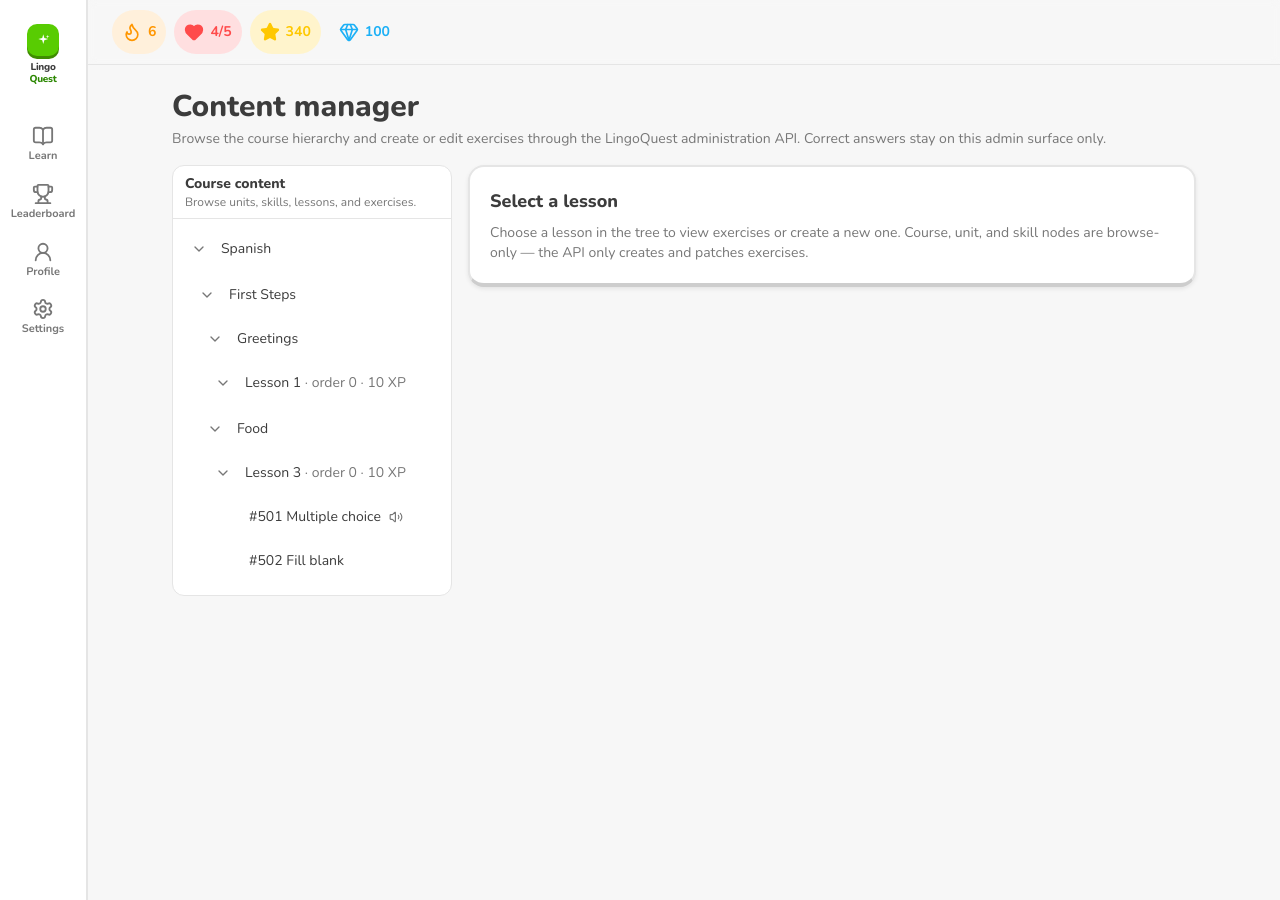
Test: Phase 11B content manager › opens edit form with admin TTS and correct answer fields
expect the text "Spanish" is shown: met, box [221,239,271,259]
Click the list item with aria-label "Exercise 501, Multiple choice" at (326, 516), box [249,507,403,526]
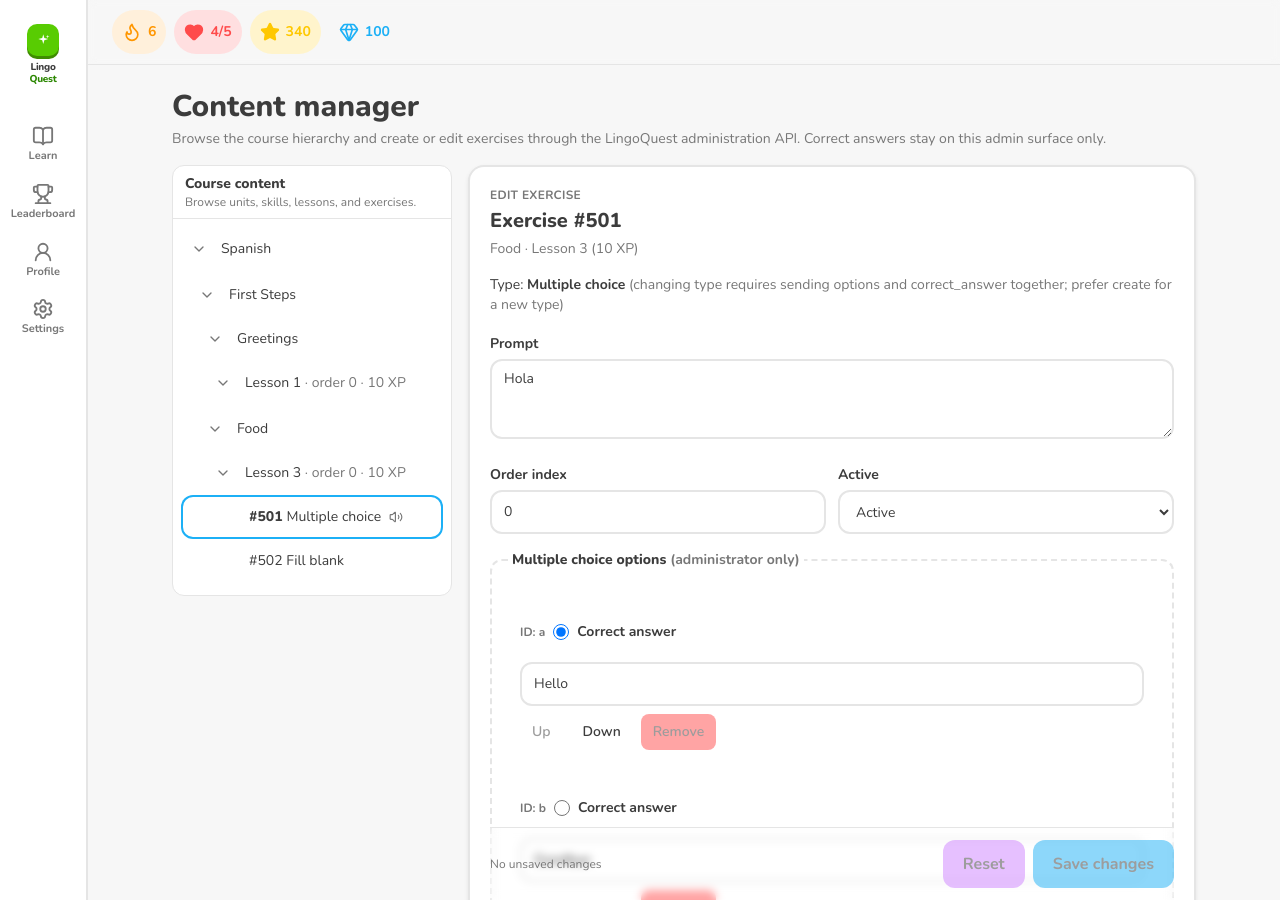
expect the heading "Exercise #501" is shown: met, box [490,207,621,234]
expect the text "(administrator only)" is shown: met, box [670,550,800,569]
expect the field showing "Hello" is shown: met, box [520,662,1144,706]
